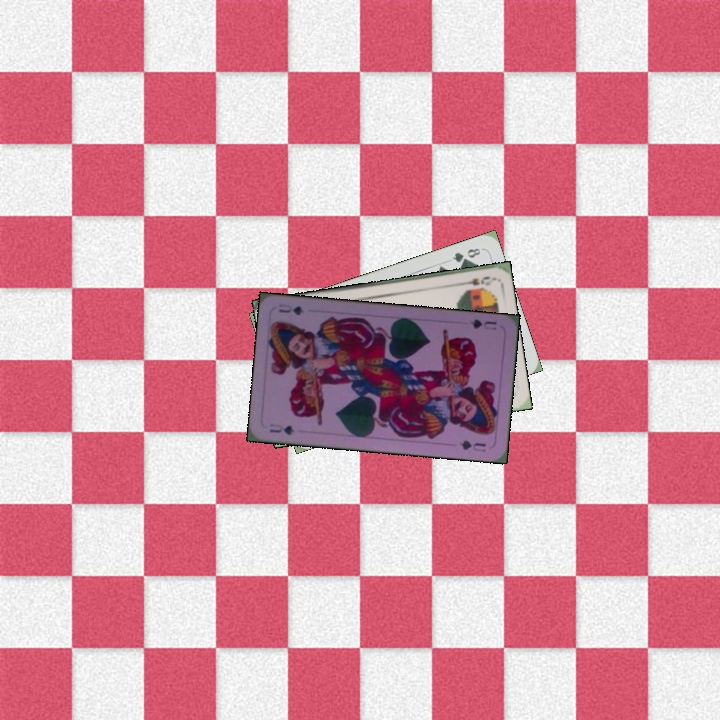G8: (448, 244, 485, 265)
GU: (266, 419, 298, 438), (466, 315, 499, 332)
SO: (455, 272, 496, 288)
